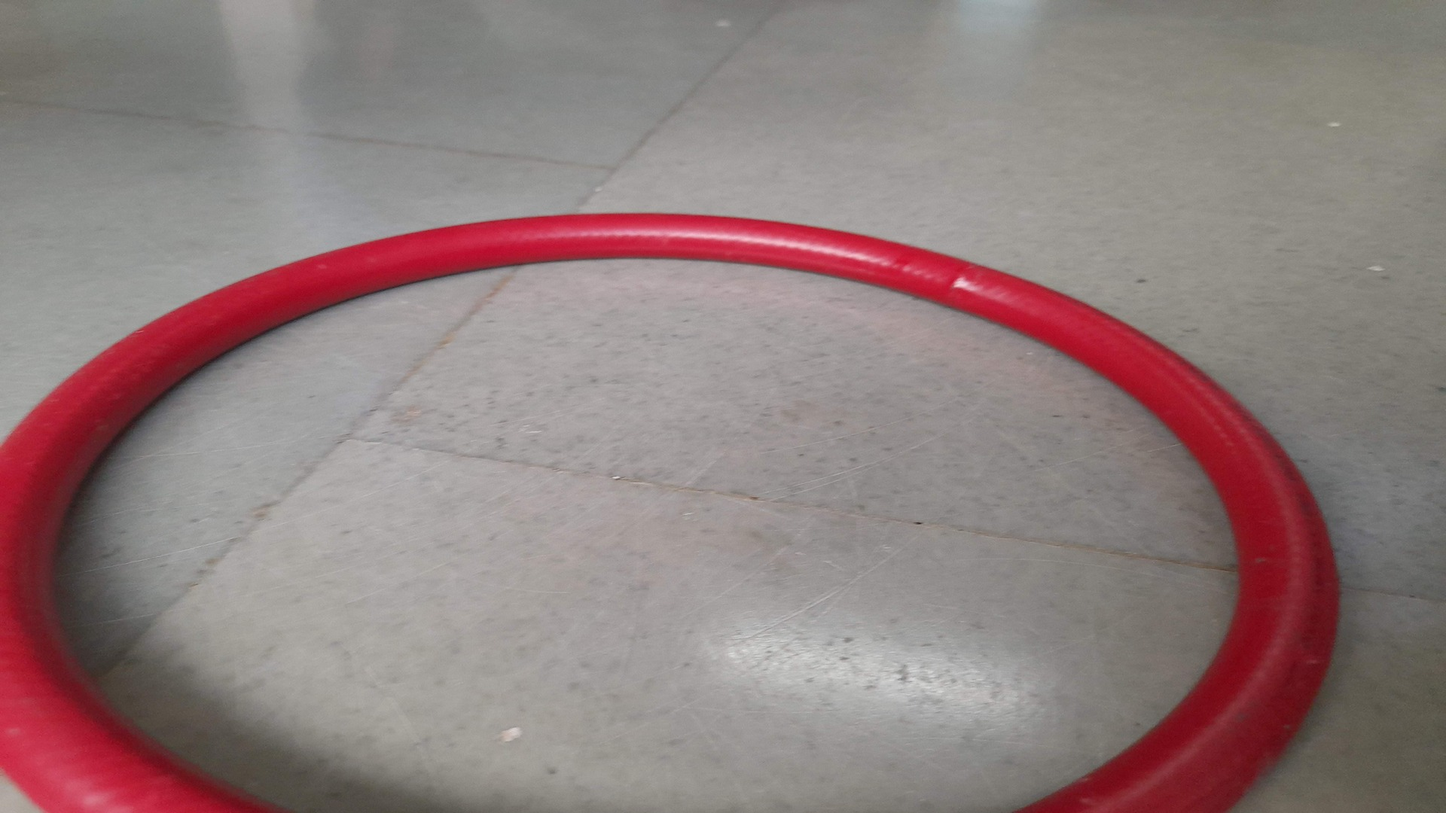Red ring: (5, 214, 1338, 813)
